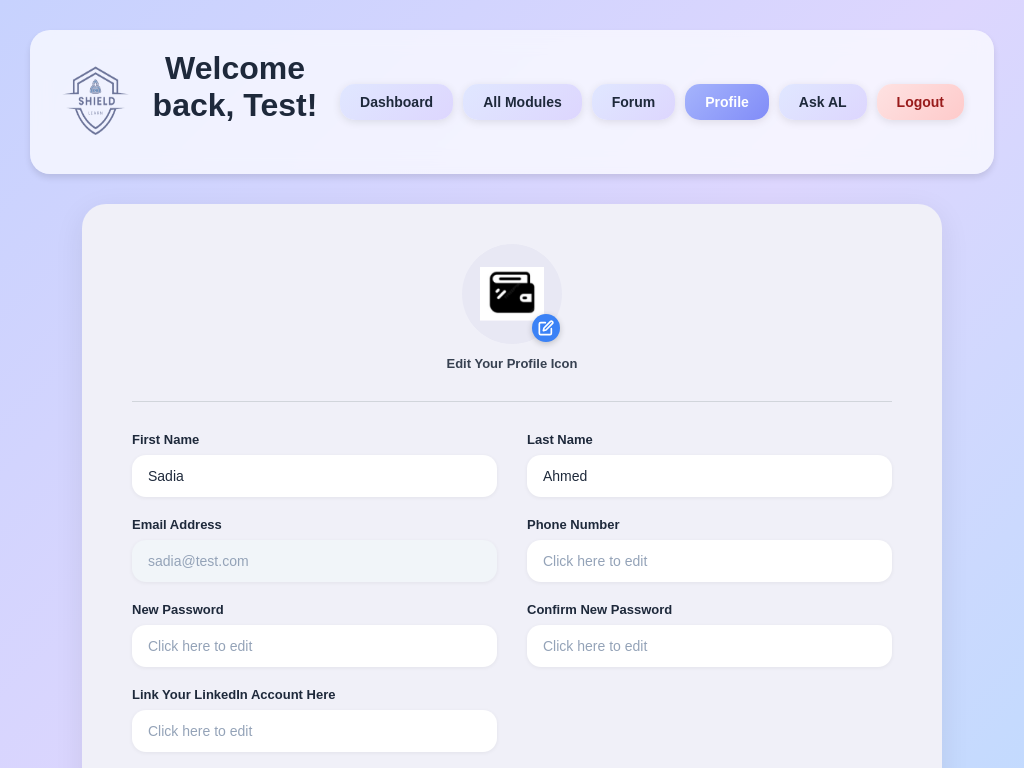
User Avatar Customisation › opens the icon picker modal when the profile avatar is clicked
The width and height of the screenshot is (1024, 768).
Expected: the text "choose your icon" is not shown
Click the profile icon
Click the picture with alt text "Profile icon" at (512, 294), box x1=480 y1=262 x2=544 y2=326
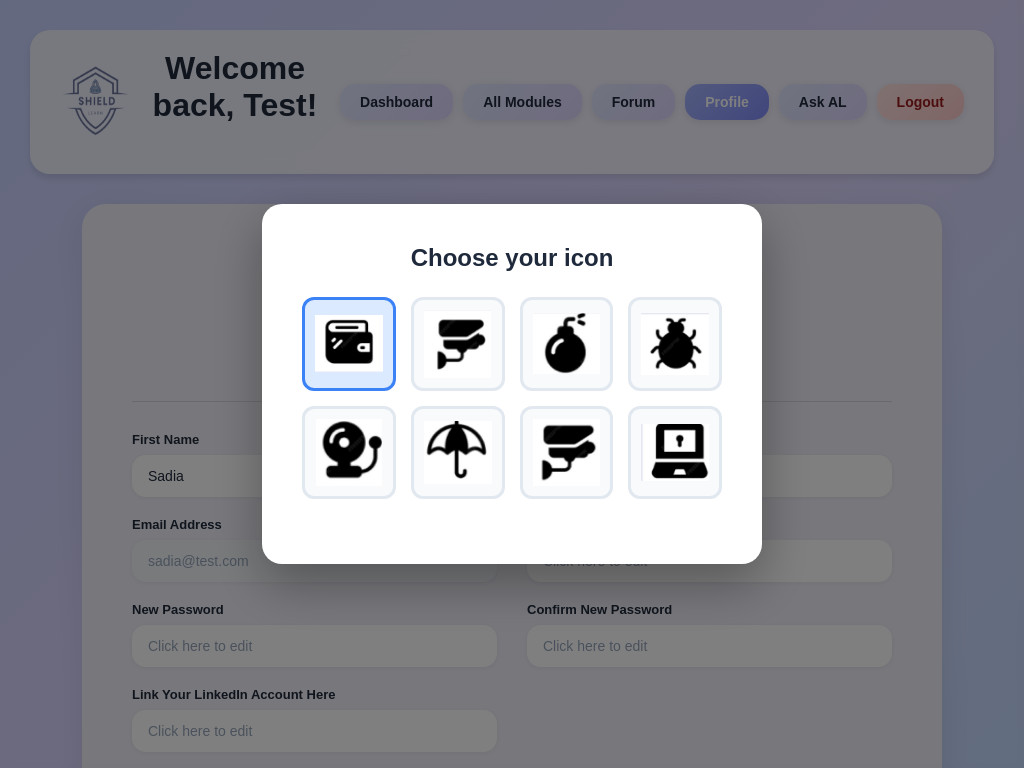
Expected: the heading "Choose your icon" is shown, x1=411 y1=244 x2=613 y2=271
